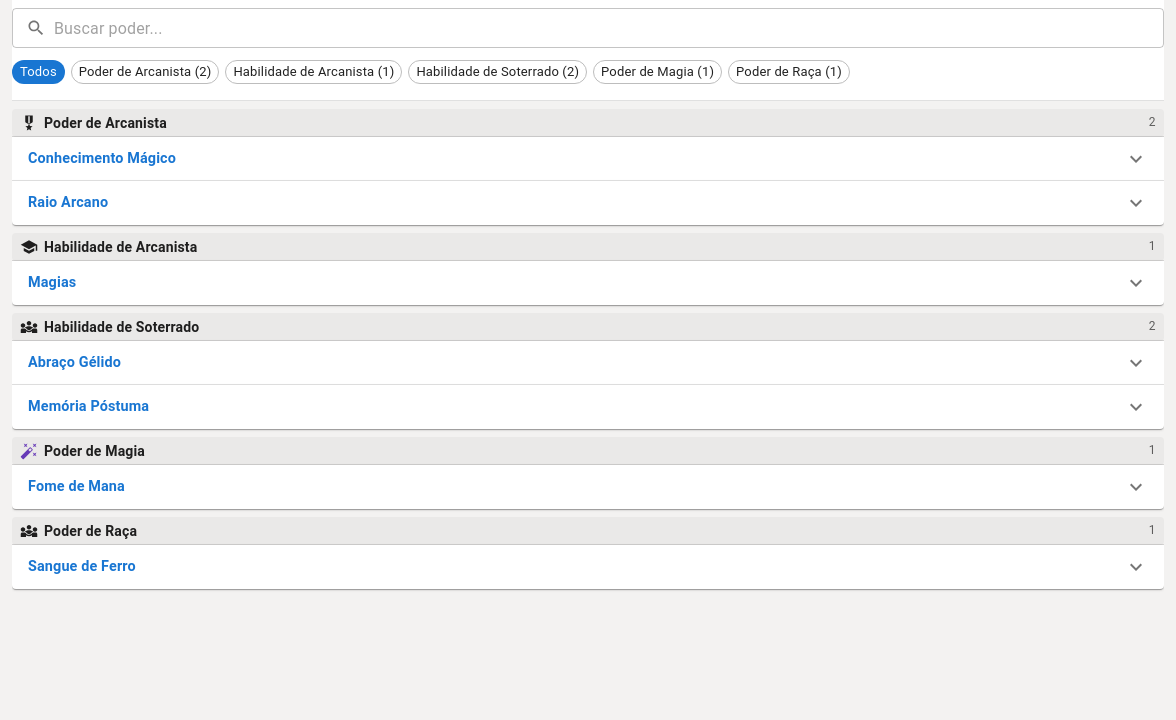
Test: PowersDisplay › as contagens dos chips acompanham a busca
Check: the text "Poder de Arcanista (2)" is shown, box [72,62,218,82]
In the field with placeholder "Buscar poder...": (609, 28) [54,8,1164,48], type "magi"
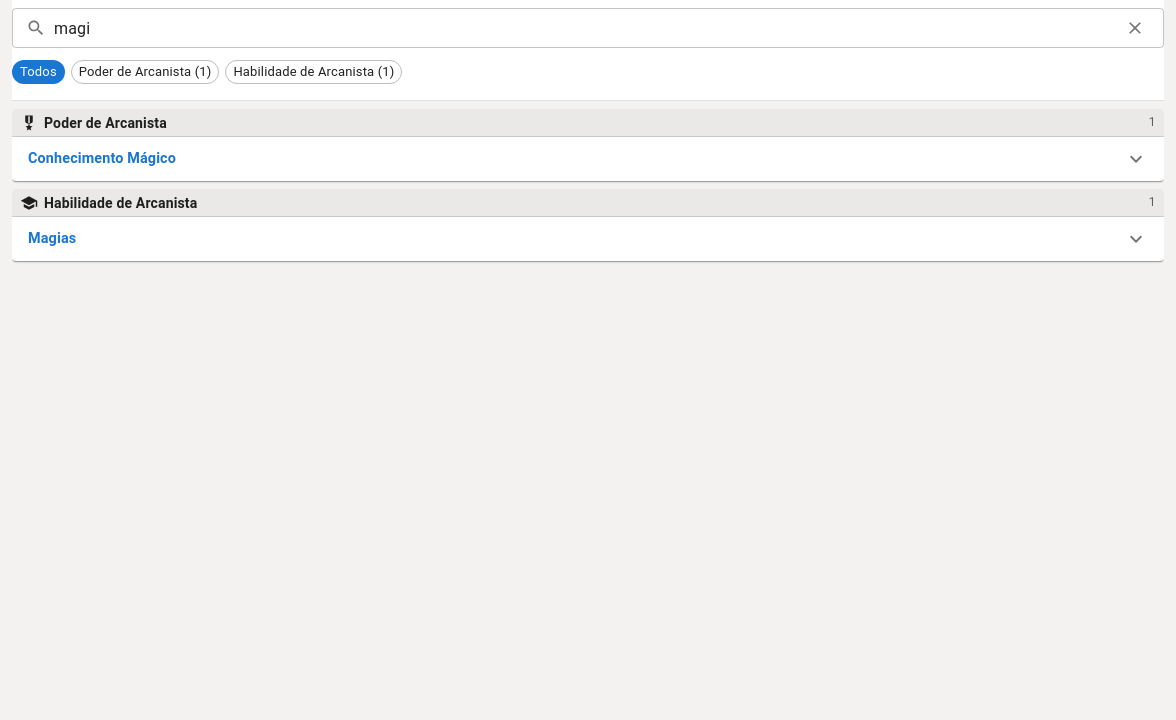
Check: the text "Habilidade de Arcanista (1)" is shown, box [226,62,401,82]
Check: the text "Poder de Arcanista (1)" is shown, box [72,62,218,82]
